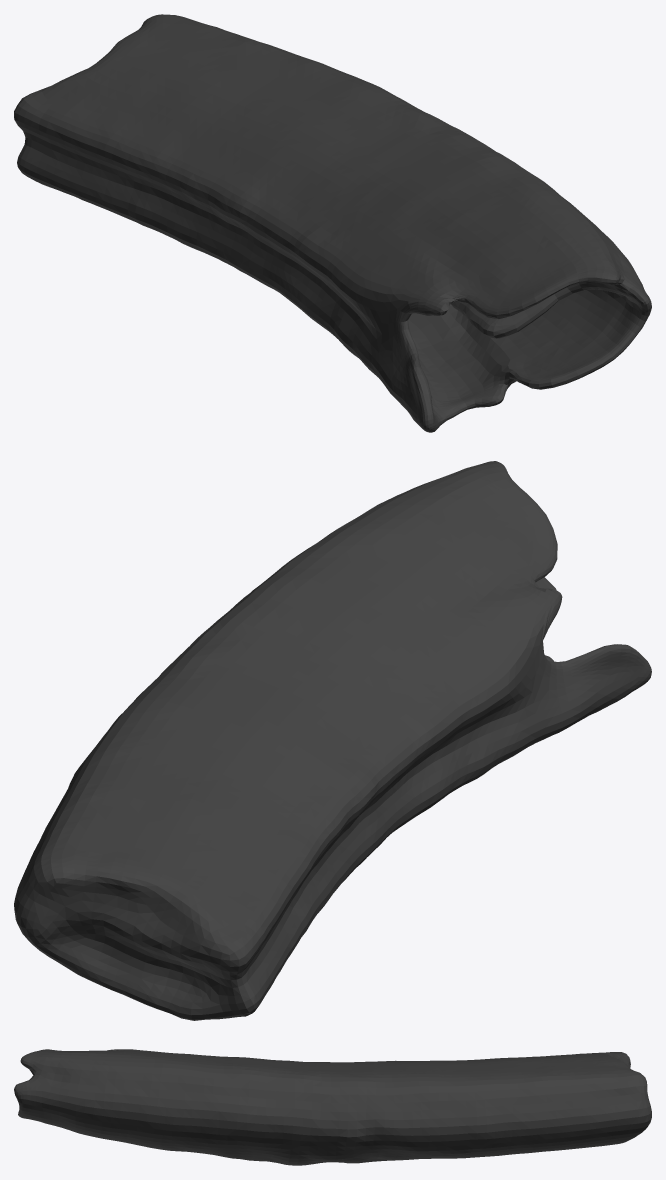
File: tooth_rabbit_110_low.glb
3 renders of one model, top to bottom at view 1: azimuth 30°, elevation 25°; view 2: azimuth 150°, elevation 25°; view 3: azimuth 270°, elevation 25°, orthographic. The views are drawn at different scales.
Visible parts, largest first — view 1: tooth_rabbit_110_low; view 2: tooth_rabbit_110_low; view 3: tooth_rabbit_110_low.
Boxes of the visible parts, left/top/right/bottom form: tooth_rabbit_110_low: left=14, top=14, right=651, bottom=432; tooth_rabbit_110_low: left=14, top=461, right=651, bottom=1020; tooth_rabbit_110_low: left=14, top=1049, right=651, bottom=1165.
Bounding box in the file's own units: 0.4763 × 0.2764 × 1.32.
1 material, 1 textured.
